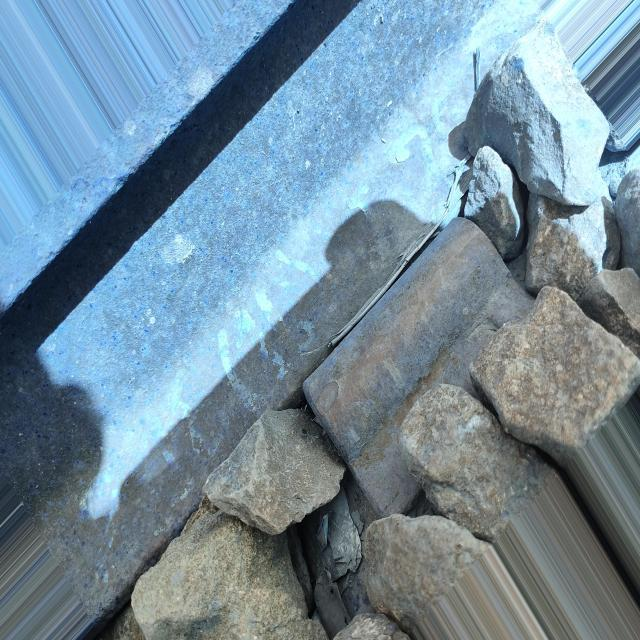Missing Fastener: (256, 210, 553, 530)
